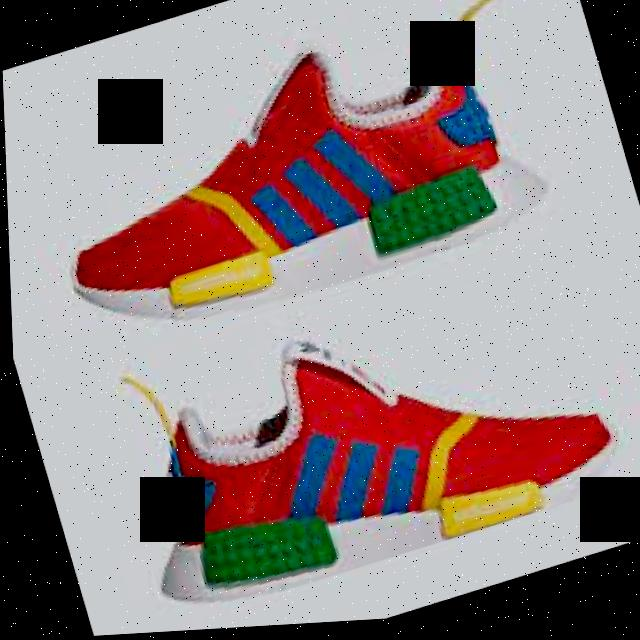shoe: (81, 226, 640, 633), (12, 0, 573, 367)
